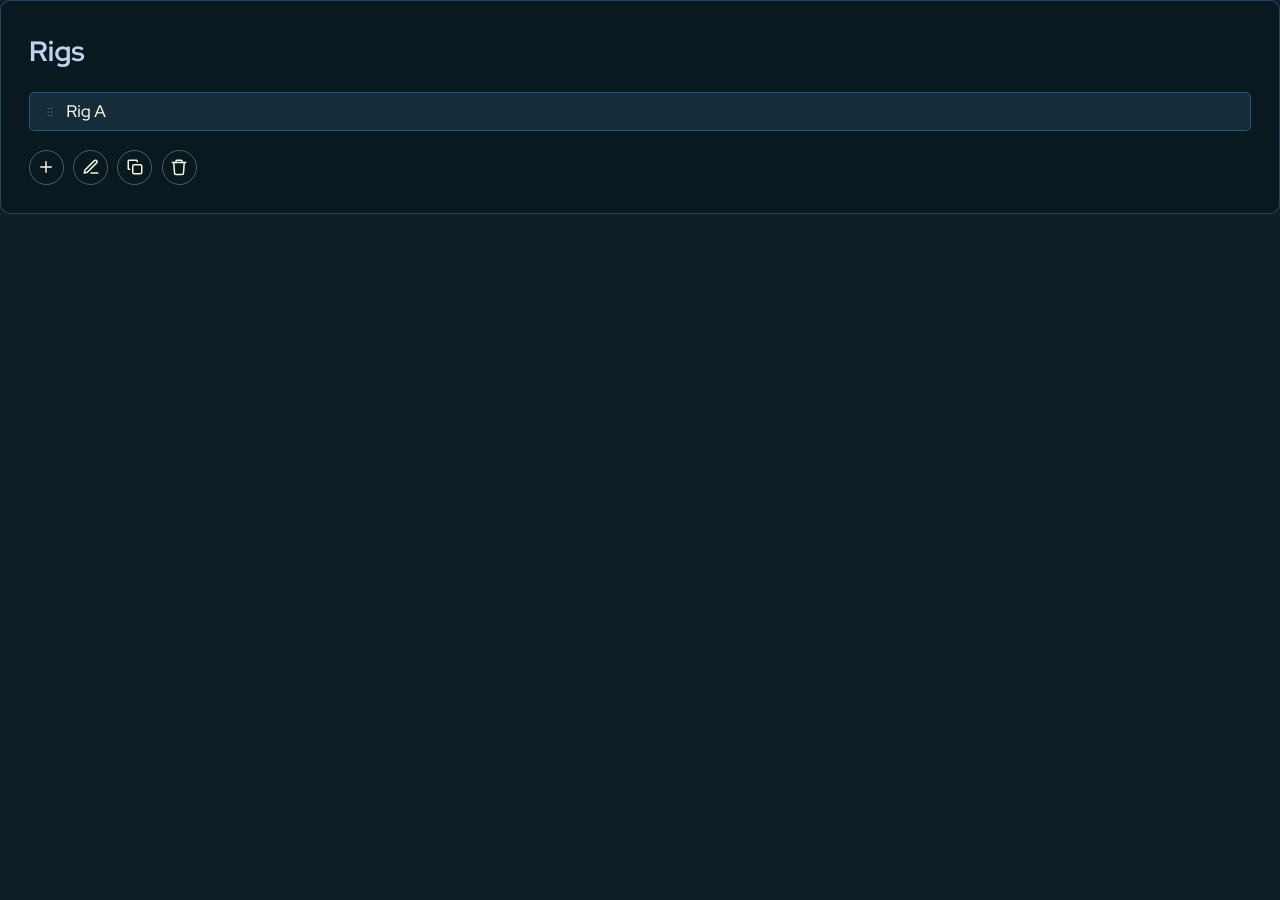
Scenario: deleting › asks before deleting
Expected: the number of options is 1, [29,92,1251,131]
What coordinates should you click on to do the following:
click the button named "delete rig"
I would click on:
 (179, 167)
Its box is [162,150,197,185].
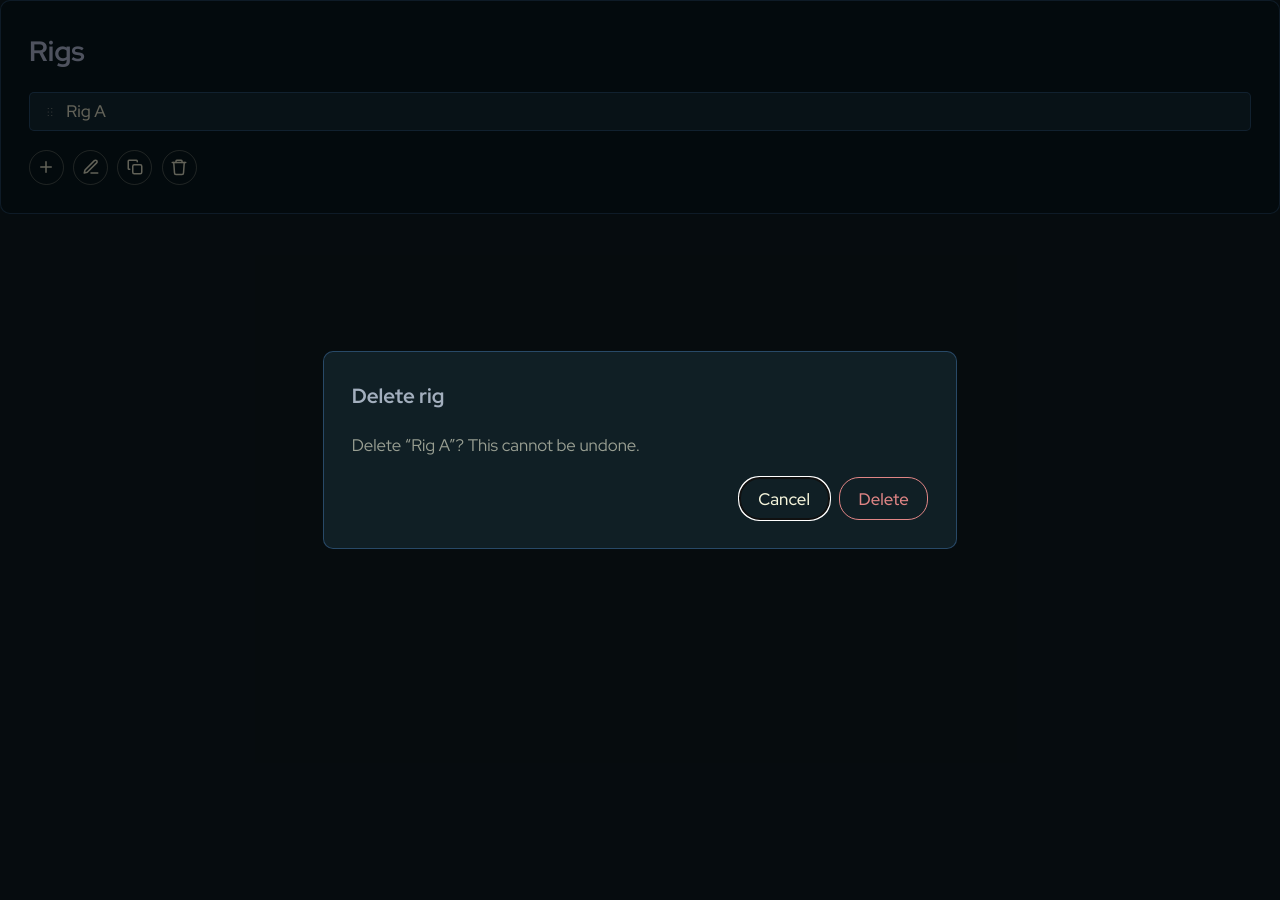
Result: the dialog is shown at [323,351,957,549]
